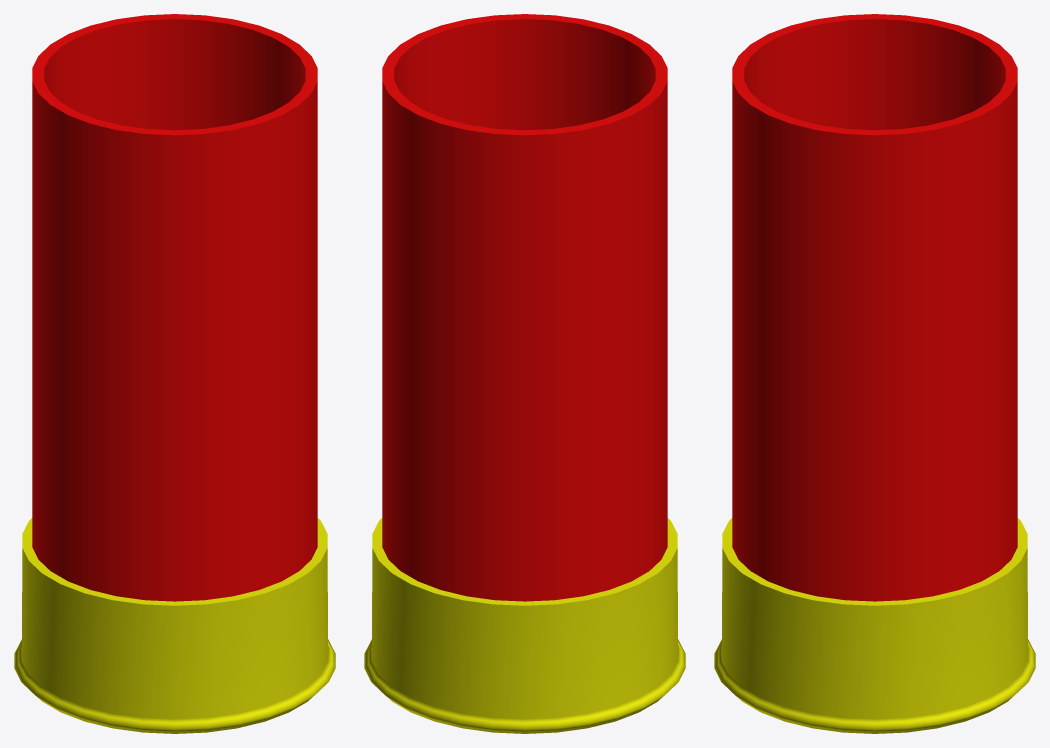
Rendered from Shell.fbx.
3 renders of one model, left to right at view 1: azimuth 30°, elevation 25°; view 2: azimuth 150°, elevation 25°; view 3: azimuth 270°, elevation 25°, orthographic.
Parts seen in each view (by area): view 1: pCylinder1, pCylinder2; view 2: pCylinder1, pCylinder2; view 3: pCylinder1, pCylinder2.
Boxes of the visible parts, bbox=[...] form: pCylinder1: bbox=[32, 14, 317, 601]; pCylinder2: bbox=[14, 518, 335, 733]; pCylinder1: bbox=[382, 14, 667, 601]; pCylinder2: bbox=[364, 518, 685, 733]; pCylinder1: bbox=[732, 14, 1017, 601]; pCylinder2: bbox=[714, 518, 1035, 733].
Size of the model in its own units: 6 by 12.18 by 5.97.
